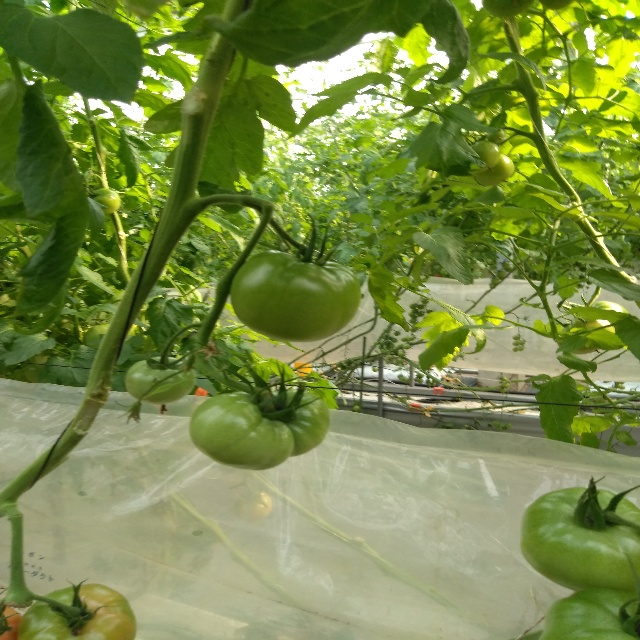b_green: (520, 486, 640, 594), (229, 250, 362, 343), (188, 389, 331, 471), (539, 587, 639, 639), (125, 356, 195, 405), (474, 153, 515, 187), (460, 140, 500, 173), (87, 188, 121, 214)
b_half_ripened: (16, 583, 137, 640)
